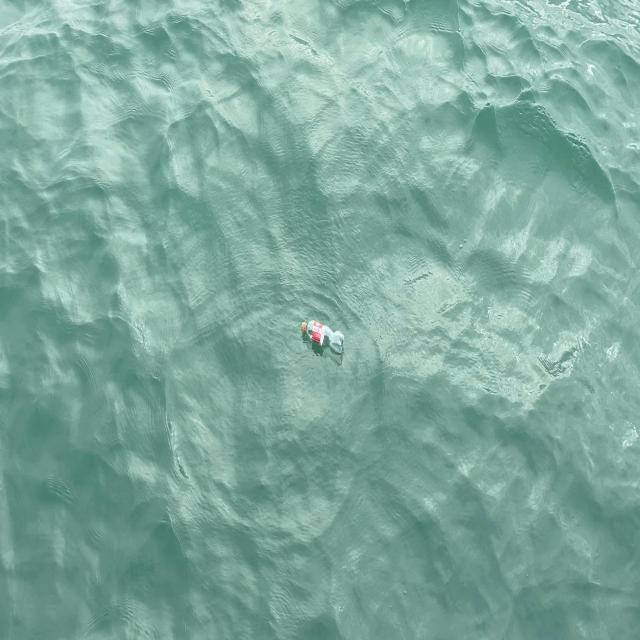Botol Plastik: (297, 310, 349, 364)
